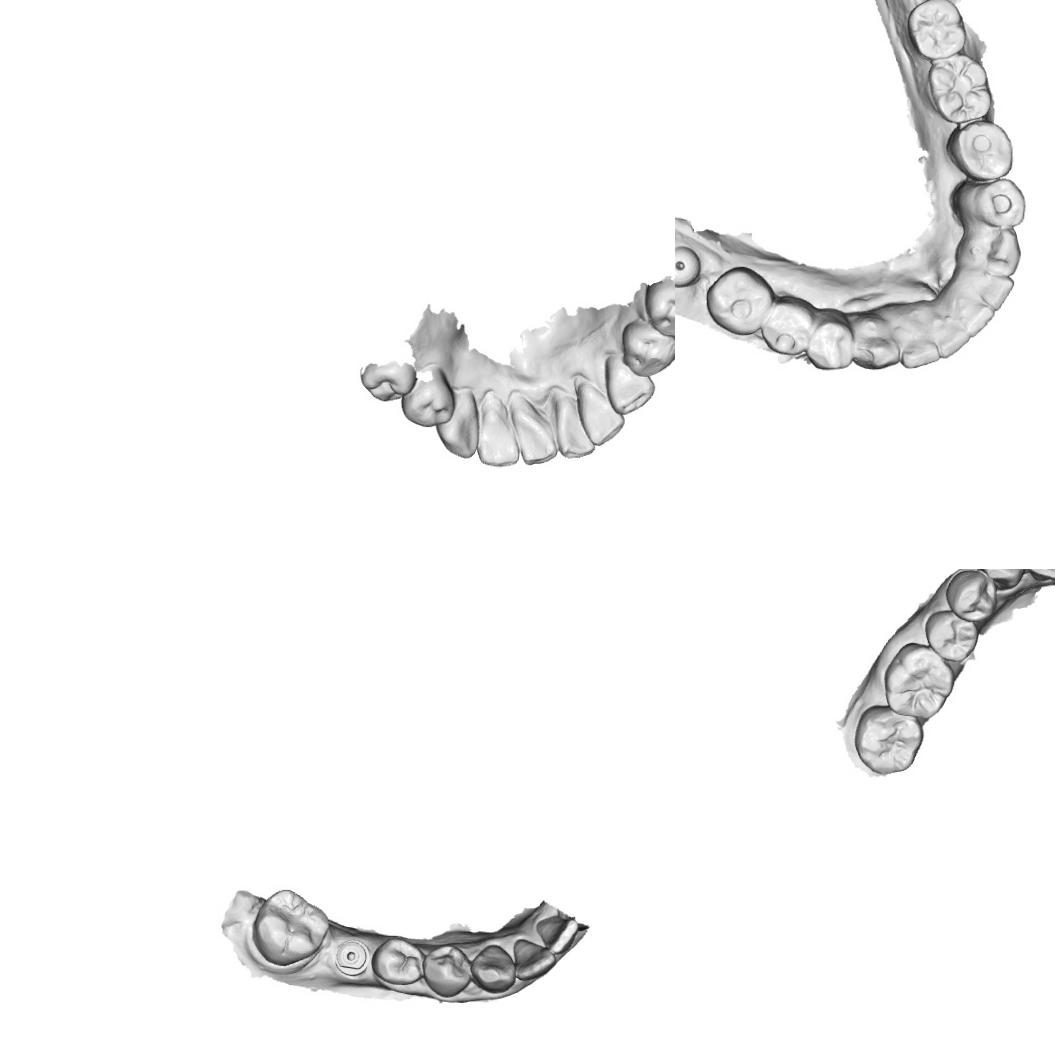canine: (602, 353, 654, 416), (965, 226, 1020, 279), (436, 394, 480, 458), (851, 313, 900, 369), (470, 943, 516, 995), (973, 569, 1026, 592)
implant: (332, 938, 370, 976), (675, 241, 702, 290)
incisor: (579, 385, 626, 448), (556, 394, 600, 460), (514, 408, 558, 470), (478, 406, 520, 469), (510, 936, 558, 982), (971, 270, 1017, 312), (532, 916, 580, 956), (933, 316, 973, 360), (899, 329, 940, 371), (956, 298, 996, 337), (1017, 569, 1055, 583)
molar: (252, 887, 330, 967), (881, 641, 956, 721), (852, 704, 924, 776), (705, 264, 771, 336), (903, 0, 971, 64), (926, 56, 990, 124)
premolar: (950, 120, 1014, 180), (762, 294, 818, 362), (962, 176, 1030, 232), (619, 317, 675, 377), (923, 608, 979, 664), (943, 569, 999, 623), (400, 376, 457, 428), (370, 934, 426, 985), (356, 358, 418, 404), (422, 941, 472, 998), (807, 316, 855, 370), (642, 278, 675, 336)
